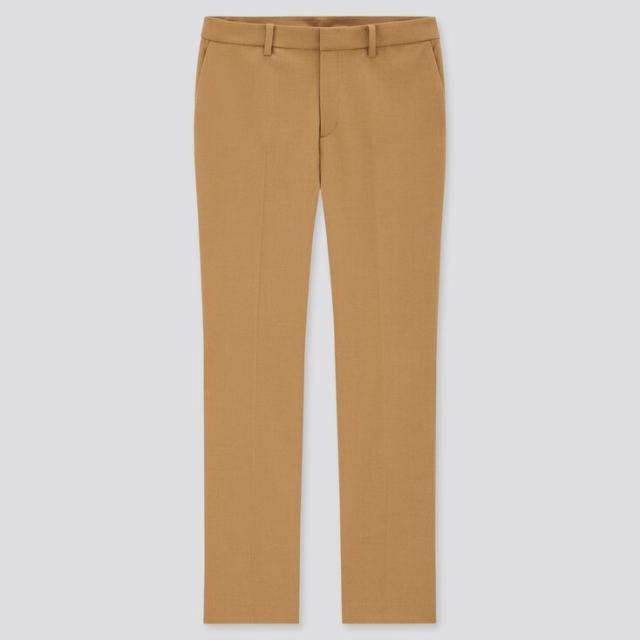long-pants: (194, 18, 447, 630)
